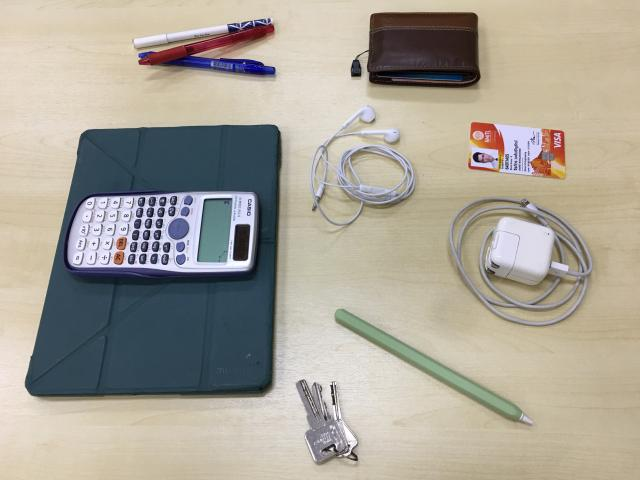Keys: (296, 381, 359, 465)
Pen: (132, 20, 278, 79)
Wallet: (367, 12, 483, 88)
wire: (448, 198, 596, 330), (310, 109, 417, 213)
